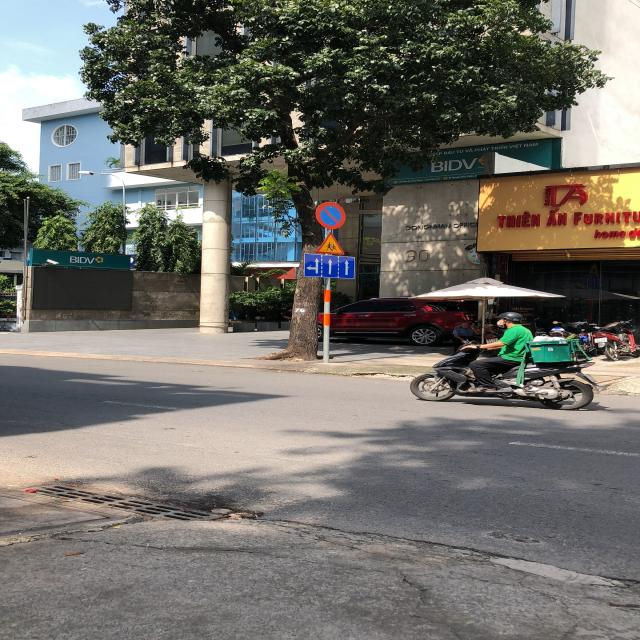Bien bao cam do xe: (312, 200, 344, 230)
Bien bao tre em: (312, 232, 348, 254)
